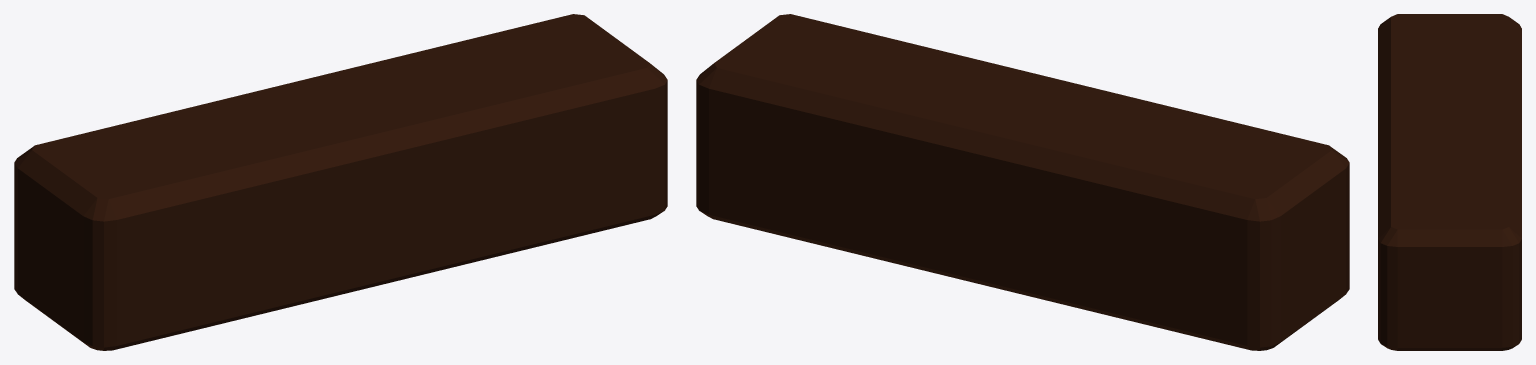
File: Floor-Trim-Edge-4x1x1.FBX
The picture shows the model from 3 angles, left to right: view 1: azimuth 30°, elevation 25°; view 2: azimuth 150°, elevation 25°; view 3: azimuth 270°, elevation 25°; orthographic projection. The views are drawn at different scales.
Parts seen in each view (by area): view 1: Floor-Trim-Edge-4x1x1; view 2: Floor-Trim-Edge-4x1x1; view 3: Floor-Trim-Edge-4x1x1.
Boxes of the visible parts, left/top/right/bottom form: Floor-Trim-Edge-4x1x1: left=14, top=14, right=667, bottom=350; Floor-Trim-Edge-4x1x1: left=696, top=14, right=1349, bottom=350; Floor-Trim-Edge-4x1x1: left=1378, top=14, right=1521, bottom=350.
Bounding box in the file's own units: 41 × 10 × 11.
